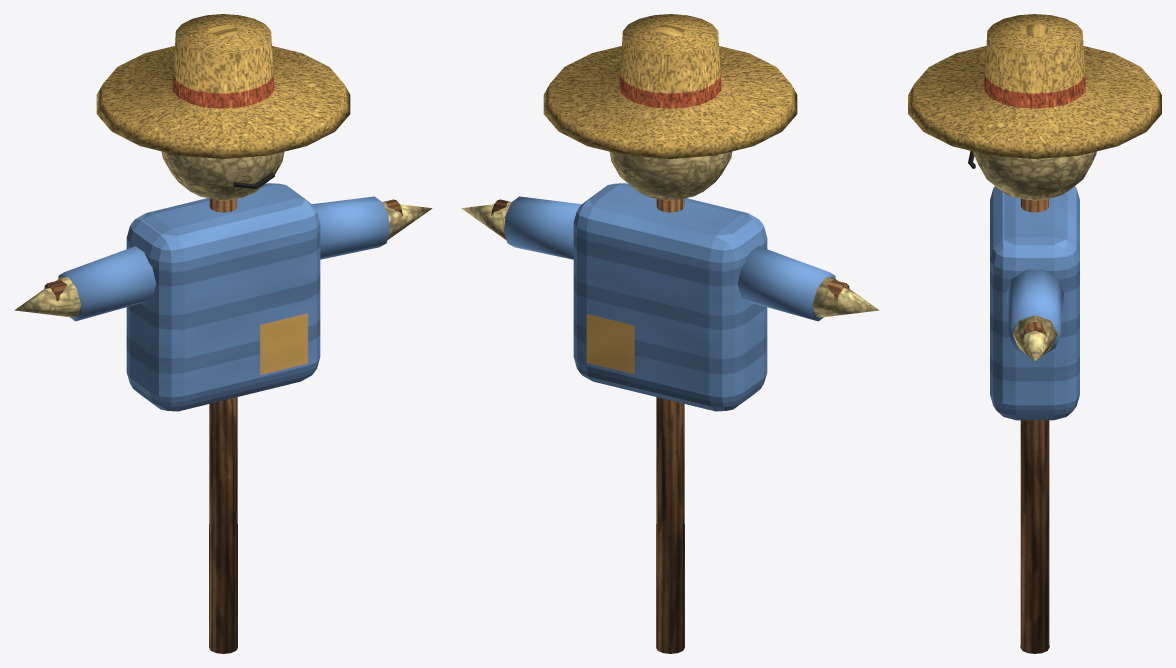
Rendered from scarecrow.glb.
3 renders of one model, left to right at view 1: azimuth 30°, elevation 25°; view 2: azimuth 150°, elevation 25°; view 3: azimuth 270°, elevation 25°, orthographic.
Parts seen in each view (by area): view 1: Scarecrow; view 2: Scarecrow; view 3: Scarecrow.
Part boxes in pixels (left/top/right/bottom): Scarecrow: left=14, top=14, right=432, bottom=653; Scarecrow: left=461, top=14, right=879, bottom=653; Scarecrow: left=908, top=14, right=1161, bottom=653.
Size of the model in its own units: 1.5 by 2.12 by 0.7878.
Materials: 1 (1 with a texture image).
